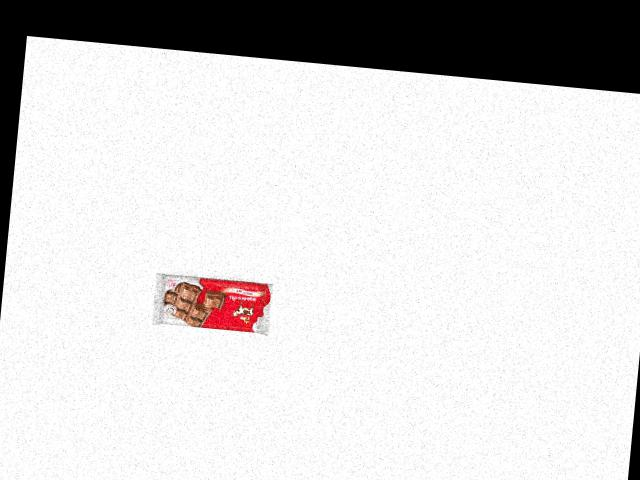chocolate: (147, 272, 274, 336)
